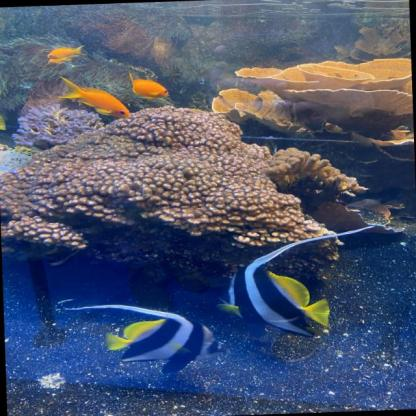fish: (204, 231, 358, 336), (74, 290, 217, 376), (58, 73, 132, 127), (127, 74, 174, 105), (44, 42, 85, 57), (43, 52, 81, 66)
